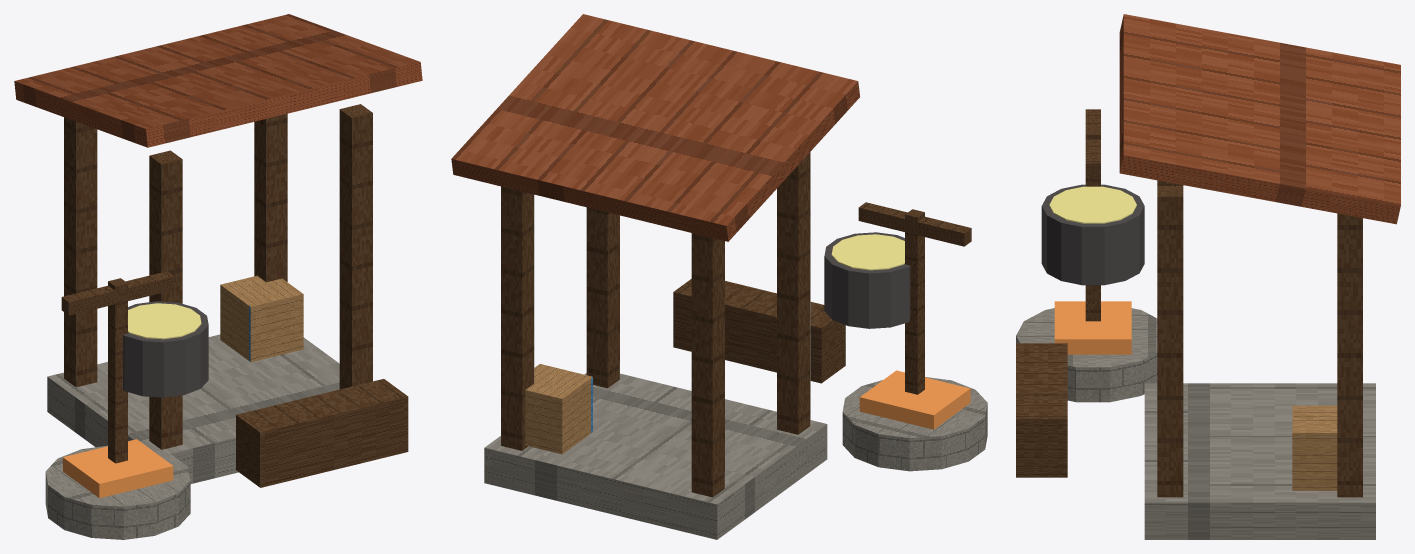
File: cookhouse.glb
The picture shows the model from 3 angles, left to right: view 1: azimuth 30°, elevation 25°; view 2: azimuth 150°, elevation 25°; view 3: azimuth 270°, elevation 25°; orthographic projection. The views are drawn at different scales.
Visible parts, largest first — view 1: Dach.002, Sockel.011, Bank, Pfosten00.002, Pfosten00.001, Feuerstelle, Pfosten00, Korb.001, Pfosten00.003, Suppentopf, Glut.004, Galgen.001 (+2 smaller); view 2: Dach.002, Sockel.011, Pfosten00, Pfosten00.001, Pfosten00.003, Feuerstelle, Bank, Pfosten00.002, Suppentopf, Korb.001, Glut.004, Galgen.001 (+2 smaller); view 3: Dach.002, Sockel.011, Pfosten00.002, Pfosten00.003, Bank, Suppentopf, Feuerstelle, Korb.001, Glut.004, Suppe, Galgen.001, GalgenArm.
Boxes of the visible parts, x1,y1,x2,y2 form: Dach.002: (14,14,422,147); Sockel.011: (47,334,339,483); Bank: (236,379,408,487); Pfosten00.002: (339,104,372,389); Pfosten00.001: (64,117,97,387); Feuerstelle: (45,445,190,539); Pfosten00: (149,150,182,449); Korb.001: (220,275,303,361); Pfosten00.003: (254,113,287,282); Suppentopf: (123,301,208,397); Glut.004: (63,439,173,498); Galgen.001: (108,278,127,463); Dach.002: (451,14,859,241); Sockel.011: (484,373,827,539); Pfosten00: (777,152,810,434); Pfosten00.001: (691,233,724,497); Pfosten00.003: (501,186,534,450); Feuerstelle: (842,377,987,471); Bank: (673,279,845,383); Pfosten00.002: (586,207,619,388); Suppentopf: (824,232,910,328); Korb.001: (525,364,592,454); Glut.004: (859,370,970,429); Galgen.001: (905,209,924,394); Dach.002: (1119,14,1400,224); Sockel.011: (1144,383,1375,539); Pfosten00.002: (1157,186,1183,497); Pfosten00.003: (1337,213,1362,497); Bank: (1016,343,1067,477); Suppentopf: (1041,184,1144,285); Feuerstelle: (1016,308,1157,402); Korb.001: (1292,405,1337,490); Glut.004: (1054,301,1131,354); Suppe: (1049,186,1136,223); Galgen.001: (1085,128,1100,321); GalgenArm: (1085,109,1100,177).
Size of the model in its own units: 1.79 by 1.7 by 1.5.
7 materials, 4 textured.
